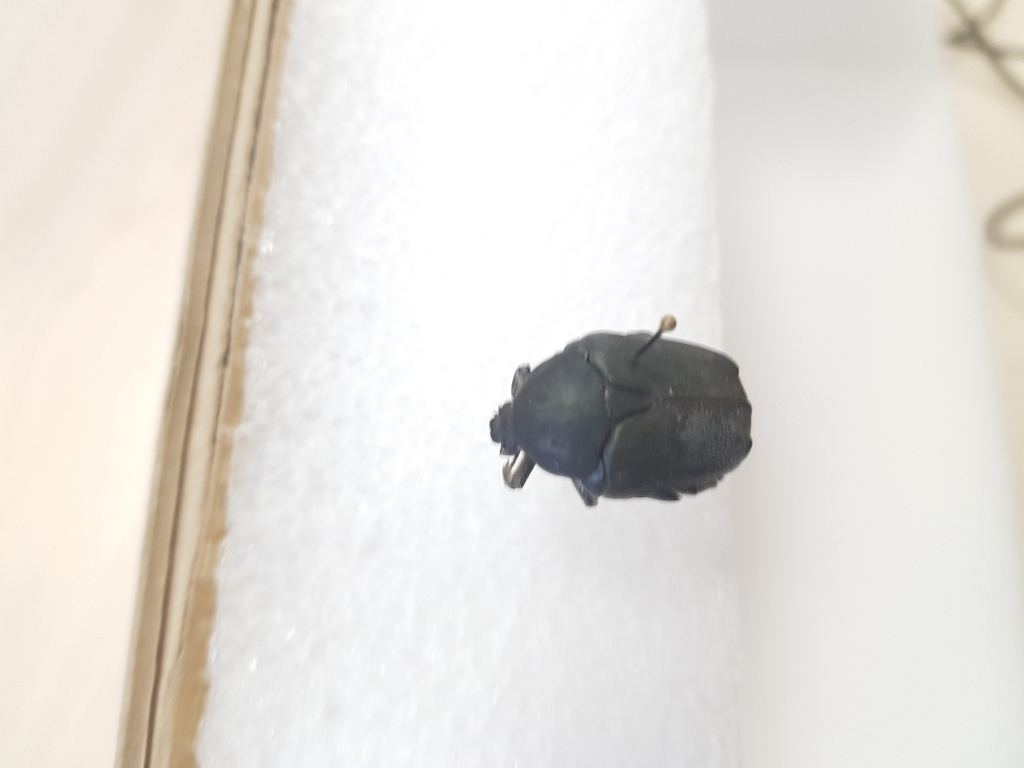Protaetia_afflicta: (479, 314, 765, 508)
